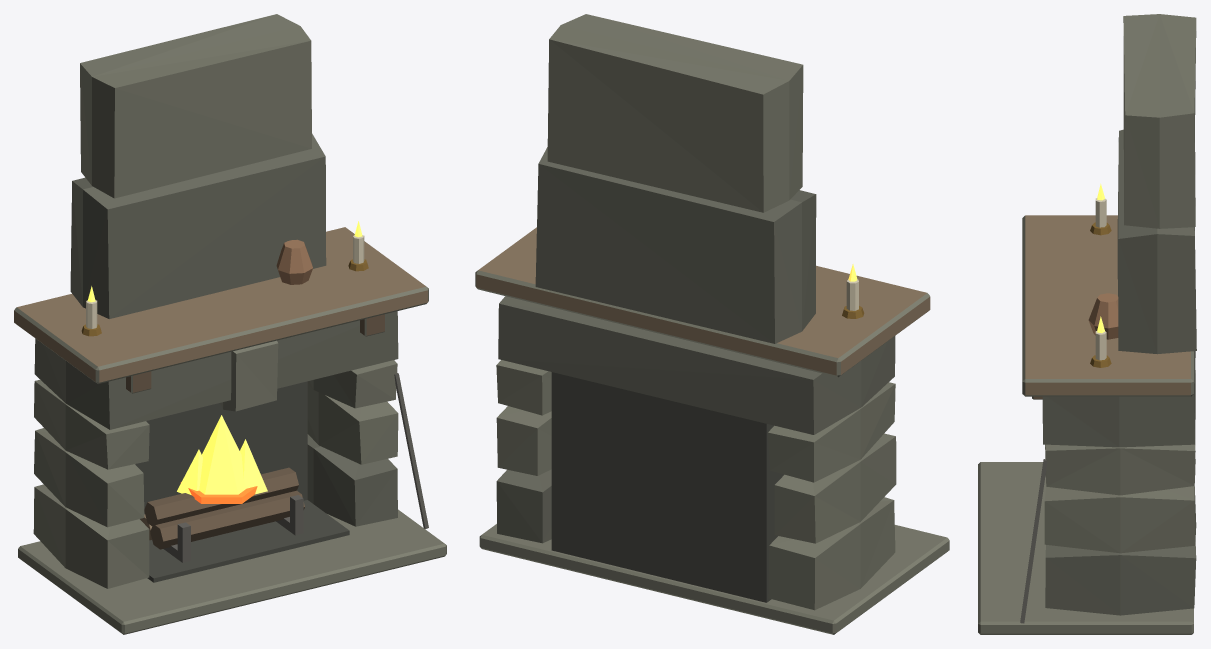
Rendered from fireplace.glb.
3 renders of one model, left to right at view 1: azimuth 30°, elevation 25°; view 2: azimuth 150°, elevation 25°; view 3: azimuth 270°, elevation 25°, orthographic. The views are drawn at different scales.
Parts seen in each view (by area): view 1: Fireplace; view 2: Fireplace; view 3: Fireplace.
Boxes of the visible parts, x1=… form: Fireplace: x1=14, y1=14, x2=446, y2=634; Fireplace: x1=475, y1=14, x2=949, y2=634; Fireplace: x1=978, y1=14, x2=1196, y2=634.
Bounding box in the file's own units: 1.6 × 2.21 × 0.8913.
